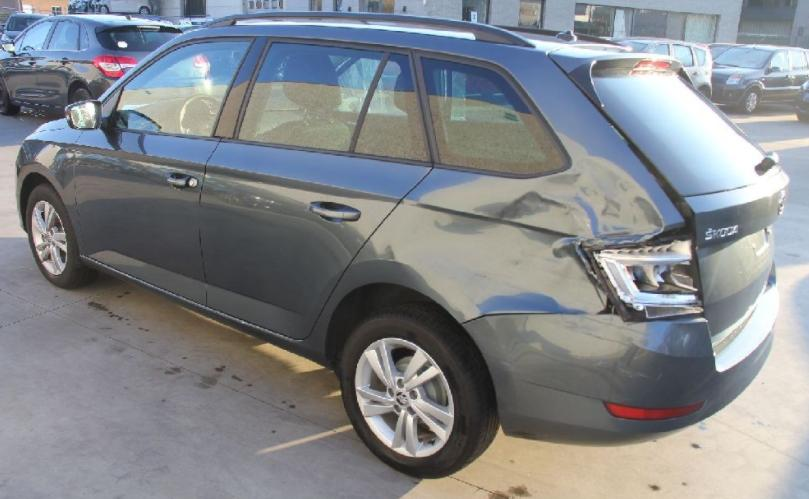Back-bumper: (462, 284, 780, 445)
Back-door: (198, 36, 439, 341)
Back-wheel: (341, 300, 501, 478)
Back-window: (236, 38, 571, 178)
Back-windshield: (592, 69, 781, 197)
Fender: (16, 125, 87, 255)
Front-door: (74, 34, 257, 304)
Front-wheel: (26, 182, 98, 288)
Front-window: (115, 39, 252, 137)
Hood: (27, 118, 69, 135)
Mirror: (66, 100, 102, 130)
Quarter-panel: (305, 169, 697, 351)
Rocker-panel: (79, 252, 335, 370)
Roof: (202, 11, 634, 52)
Tail-light: (588, 229, 708, 318)
Trunk: (550, 49, 790, 352)
